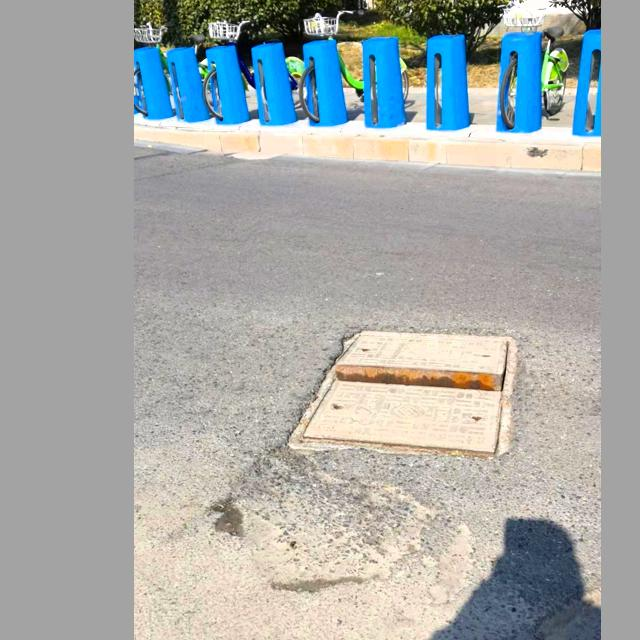uncovered: (289, 329, 520, 458)
